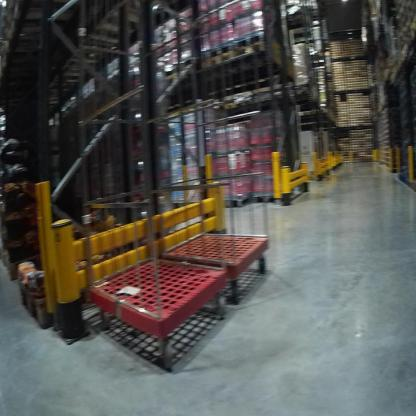pallets: (323, 30, 380, 167), (198, 31, 277, 79), (220, 184, 309, 209)
